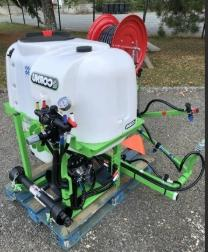PULVERISATEUR: (0, 3, 206, 241)
